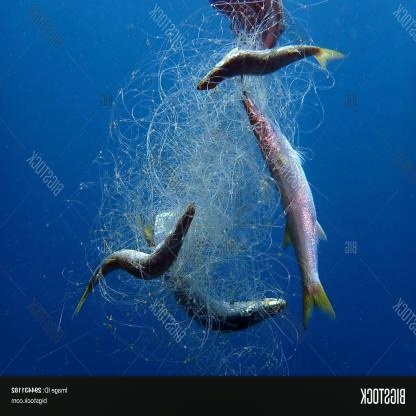net: (127, 27, 286, 310)
